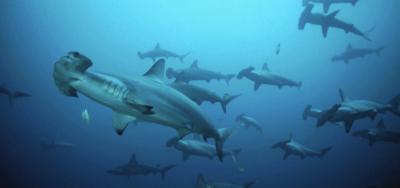Shark -Selachimorpha-: (48, 43, 236, 163), (298, 1, 380, 47), (275, 129, 341, 171), (238, 60, 307, 97)
